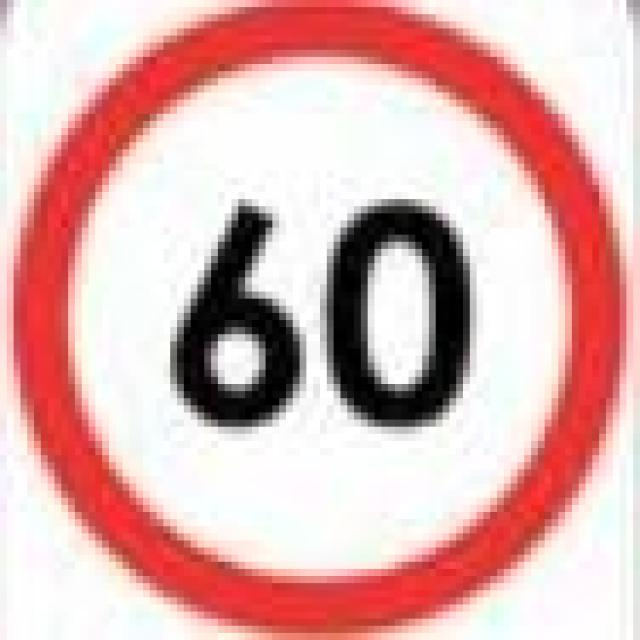speed_limit_60: (20, 0, 613, 626)
